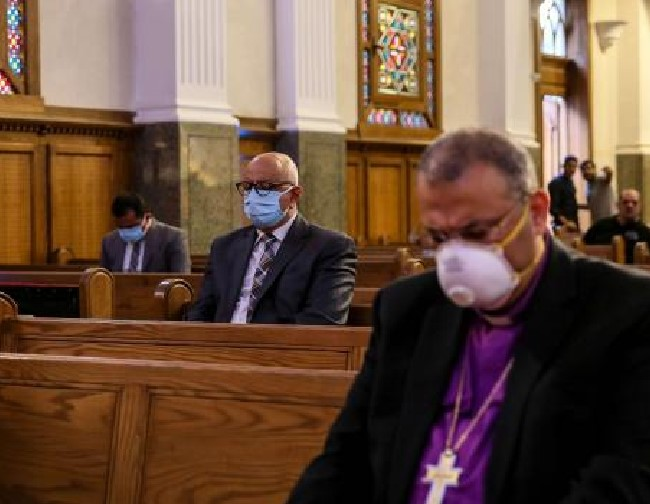face_no_mask: (613, 188, 640, 223)
face_with_mask: (415, 131, 551, 315), (235, 156, 305, 233), (109, 190, 154, 245)
